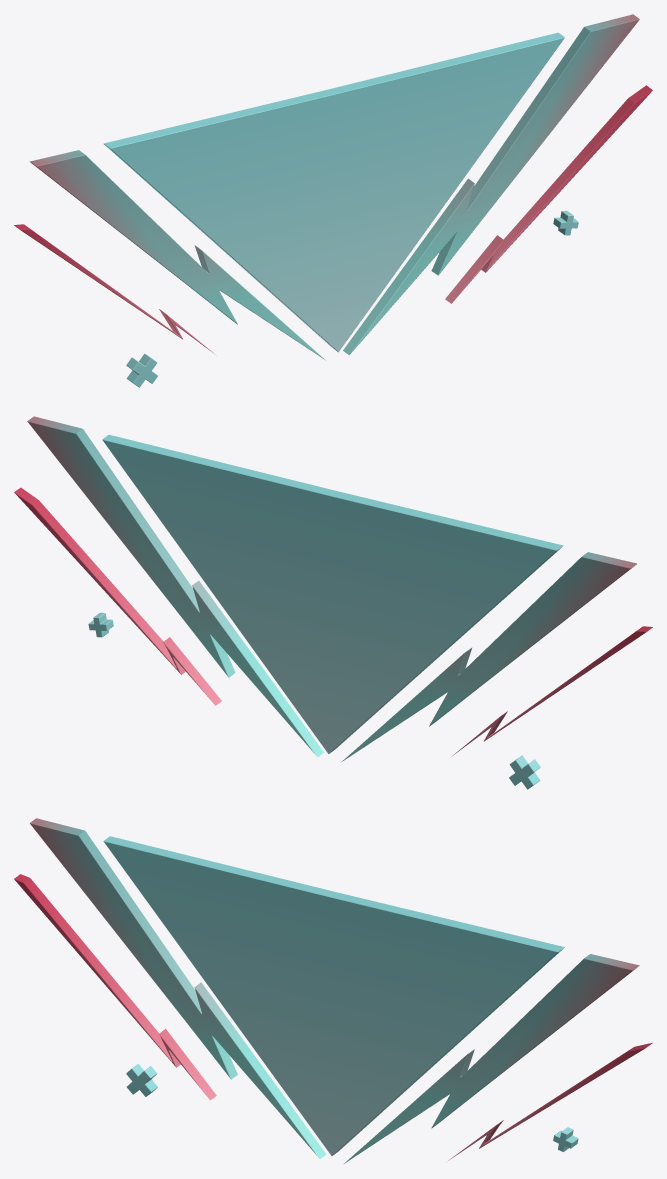
Rendered from MainMenuPattern.fbx.
The picture shows the model from 3 angles, top to bottom: view 1: azimuth 30°, elevation 25°; view 2: azimuth 150°, elevation 25°; view 3: azimuth 330°, elevation 25°; orthographic projection.
Parts seen in each view (by area): view 1: Main_triangle, right_bolt, Left_bolt, right_mini_bolt, Left_mini_bolt, Left_plus; view 2: Main_triangle, right_bolt, Left_bolt, right_mini_bolt, Left_mini_bolt, Left_plus; view 3: Main_triangle, Left_bolt, right_bolt, Left_mini_bolt, right_mini_bolt, Left_plus.
Boxes of the visible parts, x1,y1,x2,y2 form: Main_triangle: (103,32,564,352); right_bolt: (343,14,639,355); Left_bolt: (30,150,325,360); right_mini_bolt: (445,85,652,303); Left_mini_bolt: (14,224,214,353); Left_plus: (126,353,157,387); Main_triangle: (102,434,563,753); right_bolt: (27,416,323,757); Left_bolt: (342,552,636,761); right_mini_bolt: (14,487,221,705); Left_mini_bolt: (453,626,652,755); Left_plus: (509,755,540,789); Main_triangle: (103,836,564,1155); Left_bolt: (30,818,326,1158); right_bolt: (344,954,639,1163); Left_mini_bolt: (14,874,216,1100); right_mini_bolt: (448,1042,652,1160); Left_plus: (126,1064,157,1096).
Bounding box in the file's own units: 1298 × 520 × 24.31.
